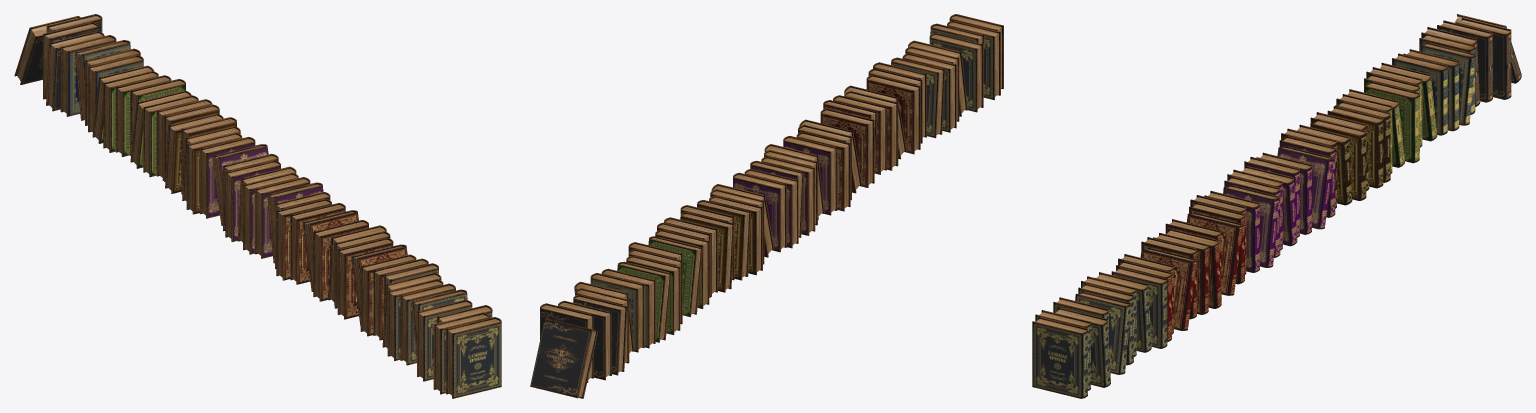
File: Prop_Book_All_x2.fbx
The picture shows the model from 3 angles, left to right: view 1: azimuth 30°, elevation 25°; view 2: azimuth 150°, elevation 25°; view 3: azimuth 330°, elevation 25°; orthographic projection. The views are drawn at different scales.
Parts seen in each view (by area): view 1: Prop_Book_All_x2; view 2: Prop_Book_All_x2; view 3: Prop_Book_All_x2.
Boxes of the visible parts, <box> form: Prop_Book_All_x2: <box>14,14,501,398</box>; Prop_Book_All_x2: <box>530,14,1003,398</box>; Prop_Book_All_x2: <box>1032,14,1521,398</box>.
Size of the model in its own units: 15.33 by 14.71 by 171.
